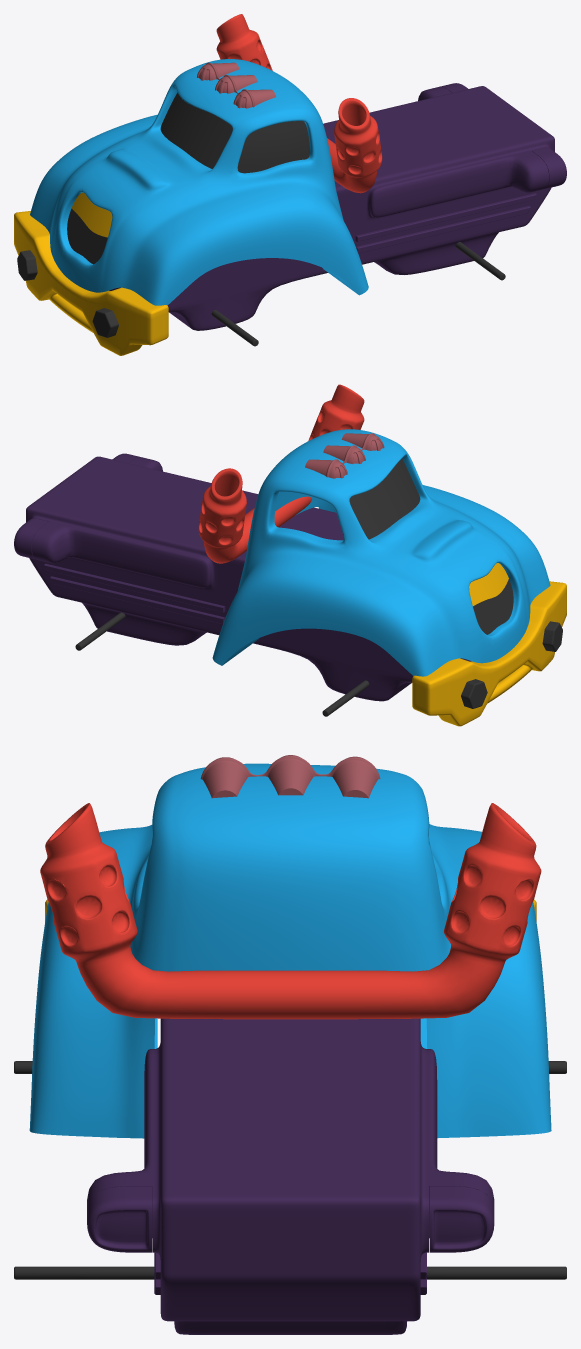
The model's file is Kids Truck.fbx.
3 views of the same model, one above another, from view 1: azimuth 30°, elevation 25°; view 2: azimuth 150°, elevation 25°; view 3: azimuth 270°, elevation 25° (orthographic). The views are drawn at different scales.
Parts seen in each view (by area): view 1: korpus_; view 2: korpus_; view 3: korpus_.
Boxes of the visible parts, box(x1,y1,x2,y2) form: korpus_: box(14, 14, 566, 355); korpus_: box(14, 384, 566, 726); korpus_: box(14, 755, 566, 1334).
Bounding box in the file's own units: 18.82 × 32.4 × 14.77.
